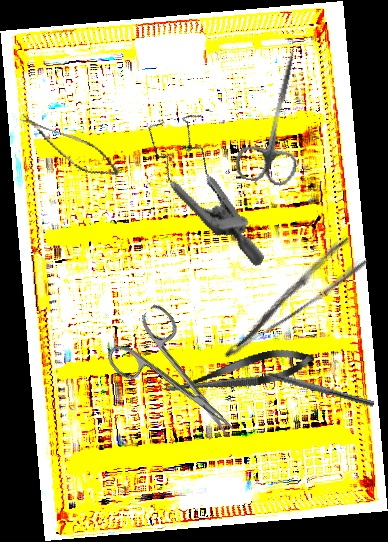Chopper: (249, 359, 377, 408)
Dressing Forceps: (206, 233, 371, 362)
Iris Scissors: (100, 301, 257, 461), (232, 44, 321, 190)
Micro Scissor: (159, 342, 317, 405), (11, 114, 127, 182)
Speculum: (114, 97, 308, 268)
